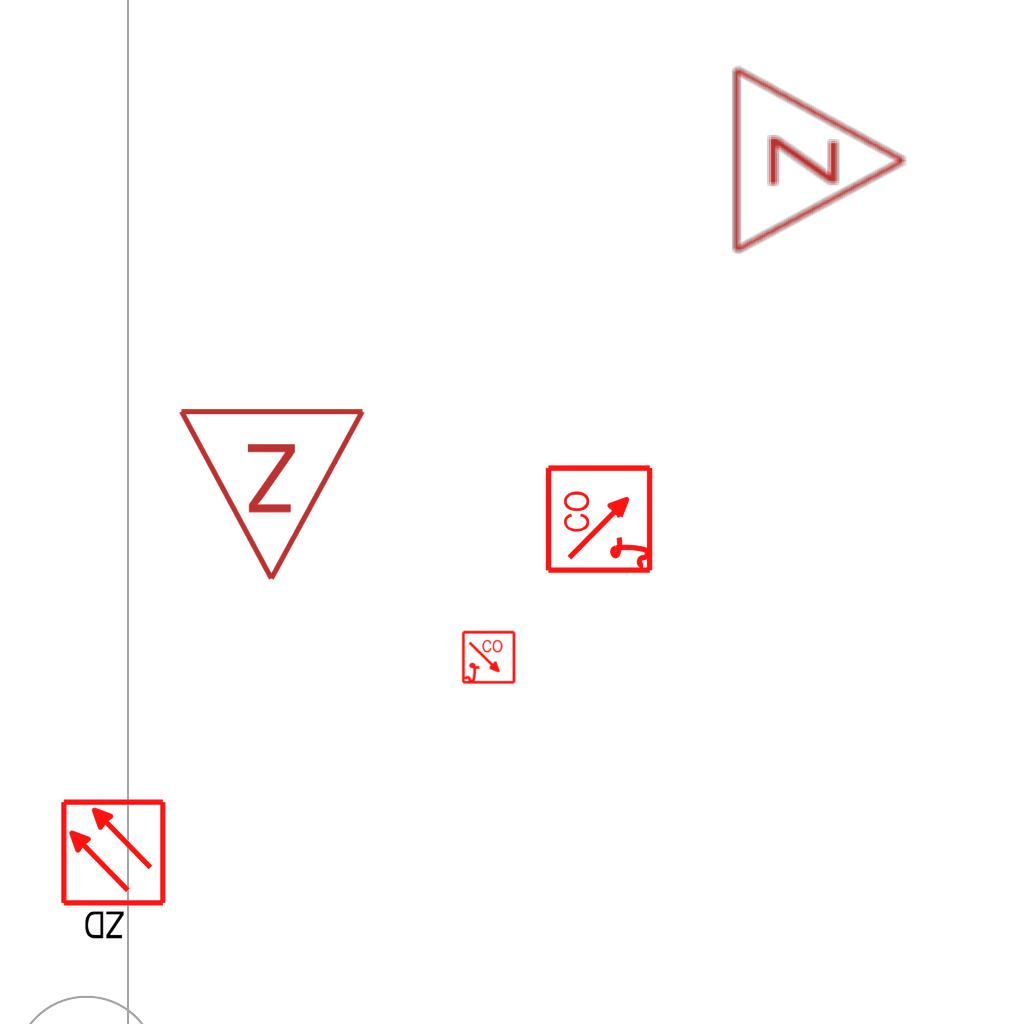ROA_Rauchmelder_optisch_mit_Signalgeber_(Sockelsirene): (544, 462, 657, 575), (461, 630, 517, 686)
ZD_Melder_in_Zwischendecke_mit_Revisionsoeffnung_mind_40_x_40_cm: (58, 797, 172, 946)
Zimmersignalleuchte: (719, 60, 919, 256), (176, 394, 372, 594)
